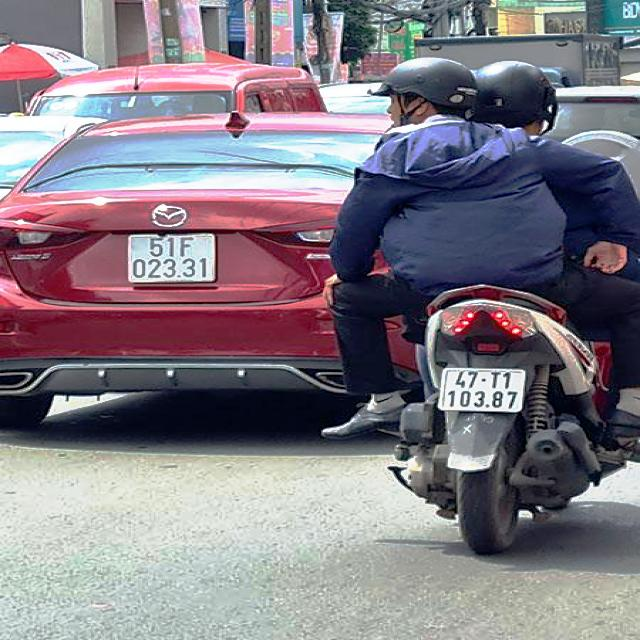license_plate: (130, 233, 220, 284), (439, 367, 532, 413)
